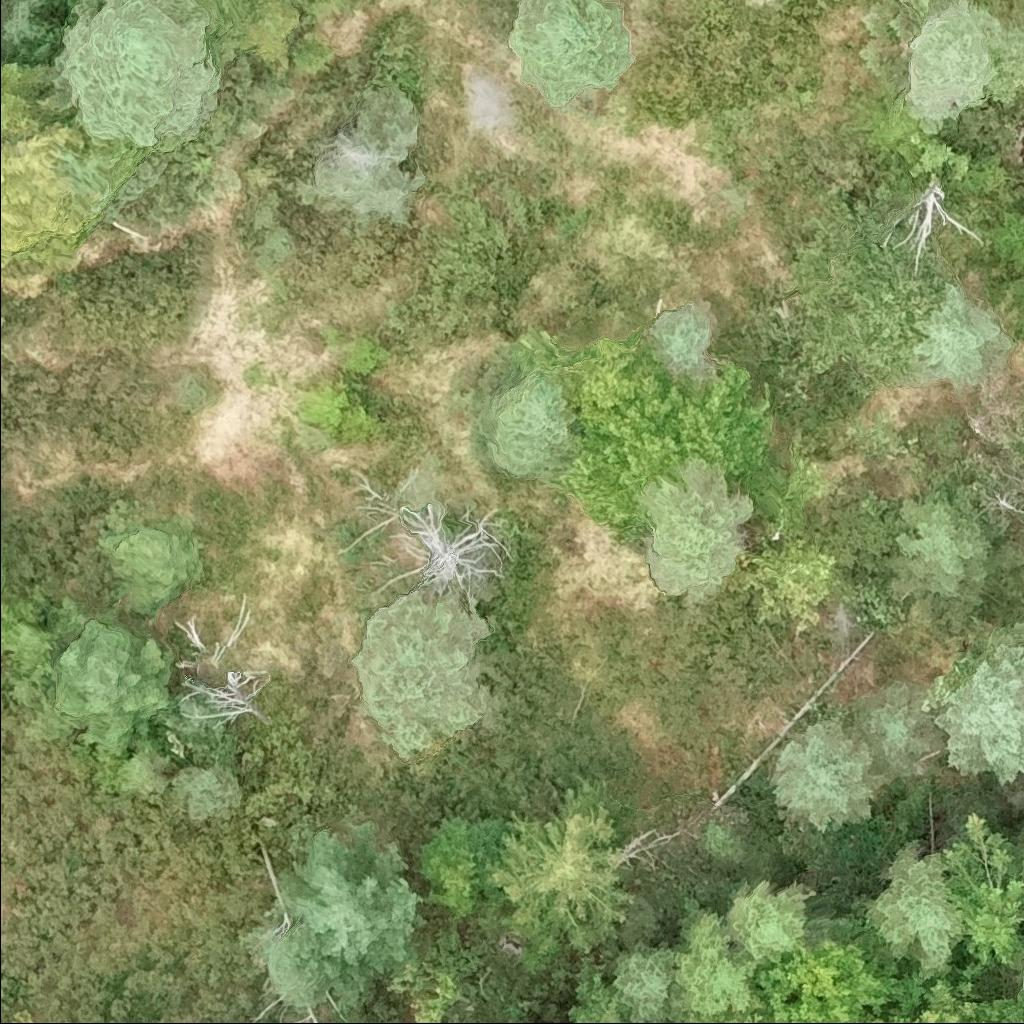crown: (543, 361, 771, 526), (483, 770, 636, 975), (797, 211, 946, 382), (61, 0, 224, 148), (350, 595, 493, 763), (297, 828, 421, 991), (634, 456, 756, 600), (312, 86, 425, 222), (863, 836, 965, 979), (505, 0, 637, 107), (0, 117, 98, 252), (752, 932, 896, 1023), (932, 645, 1023, 785), (52, 619, 171, 722), (944, 813, 1023, 967), (906, 1, 995, 133), (774, 720, 874, 835), (481, 373, 581, 486), (664, 907, 757, 1023), (897, 500, 986, 600), (852, 681, 941, 780), (913, 281, 1002, 380), (722, 878, 816, 965), (896, 181, 983, 274), (266, 926, 344, 1012), (557, 340, 643, 416), (649, 300, 719, 386), (611, 940, 671, 1023), (170, 765, 244, 824), (677, 986, 775, 1023), (915, 987, 1009, 1023), (119, 747, 180, 802), (1017, 962, 1023, 1003), (1021, 908, 1023, 921)
